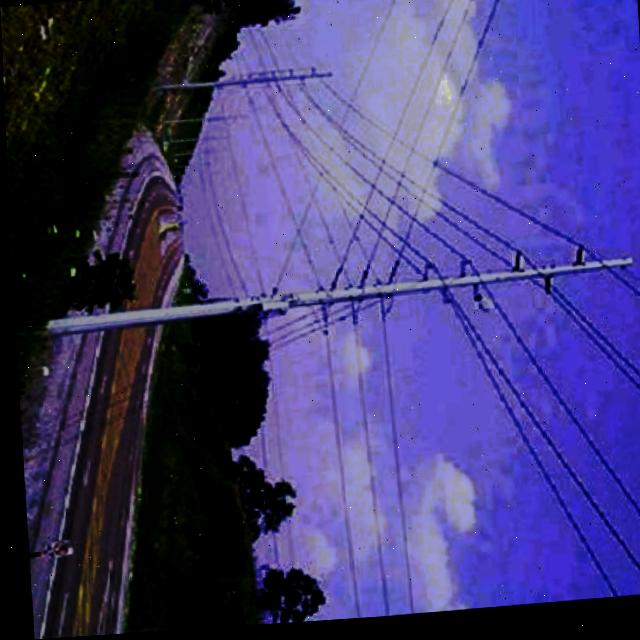poles: (39, 251, 632, 336), (150, 70, 331, 94)
wires: (263, 64, 574, 283), (271, 0, 507, 287), (431, 295, 640, 603), (296, 318, 431, 614), (524, 278, 640, 424)
